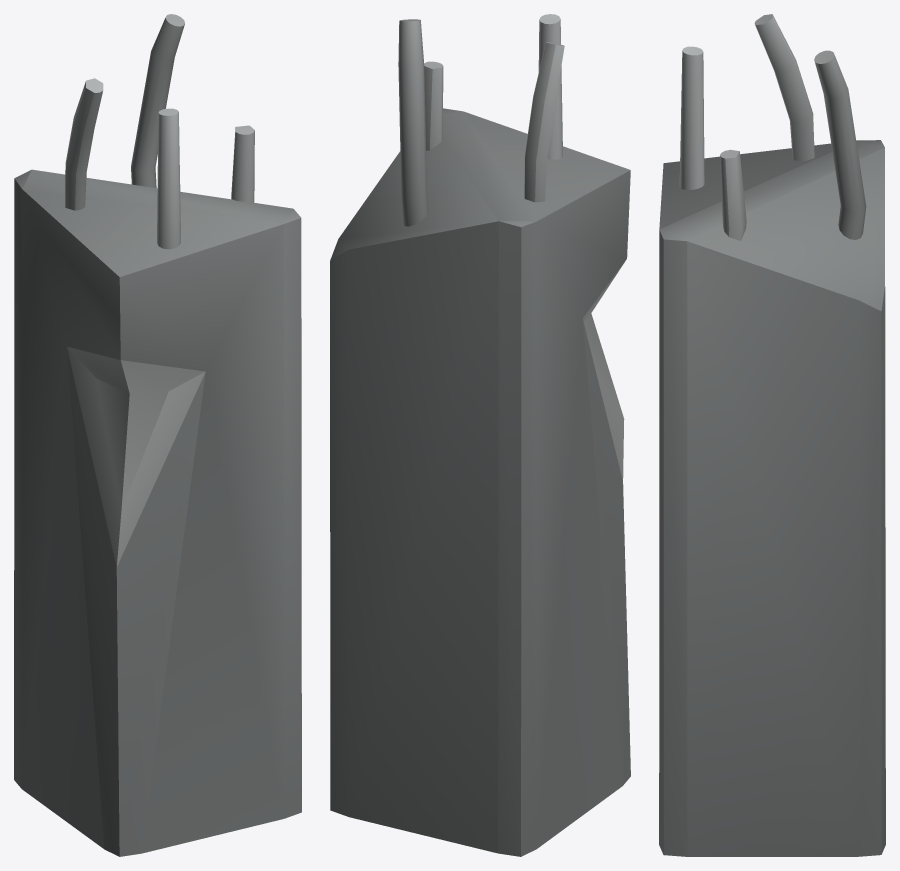
Rendered from Cement_barrier_broken_no_reinforcement.fbx.
3 views of the same model, side by side, from view 1: azimuth 30°, elevation 25°; view 2: azimuth 150°, elevation 25°; view 3: azimuth 270°, elevation 25° (orthographic). The views are drawn at different scales.
Visible parts, largest first — view 1: Cement_barrier_broken_no_reinforcement; view 2: Cement_barrier_broken_no_reinforcement; view 3: Cement_barrier_broken_no_reinforcement.
Part boxes in pixels (x1,y1,x2,y2): Cement_barrier_broken_no_reinforcement: (14,14,301,856); Cement_barrier_broken_no_reinforcement: (330,14,630,856); Cement_barrier_broken_no_reinforcement: (659,14,885,856).
Size of the model in its own units: 105 by 395 by 105.
